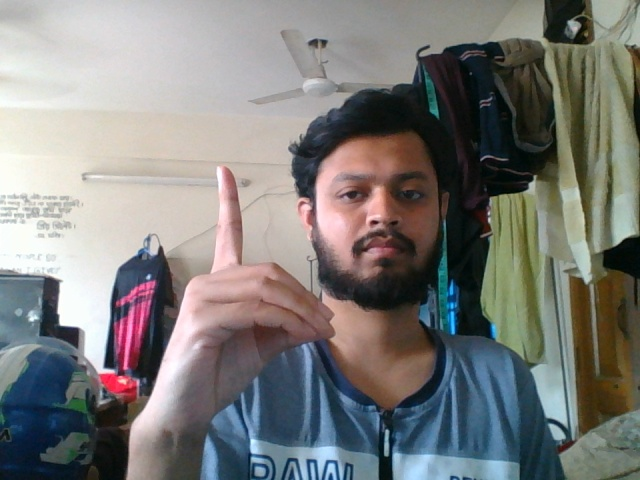dha: (153, 159, 340, 448)
